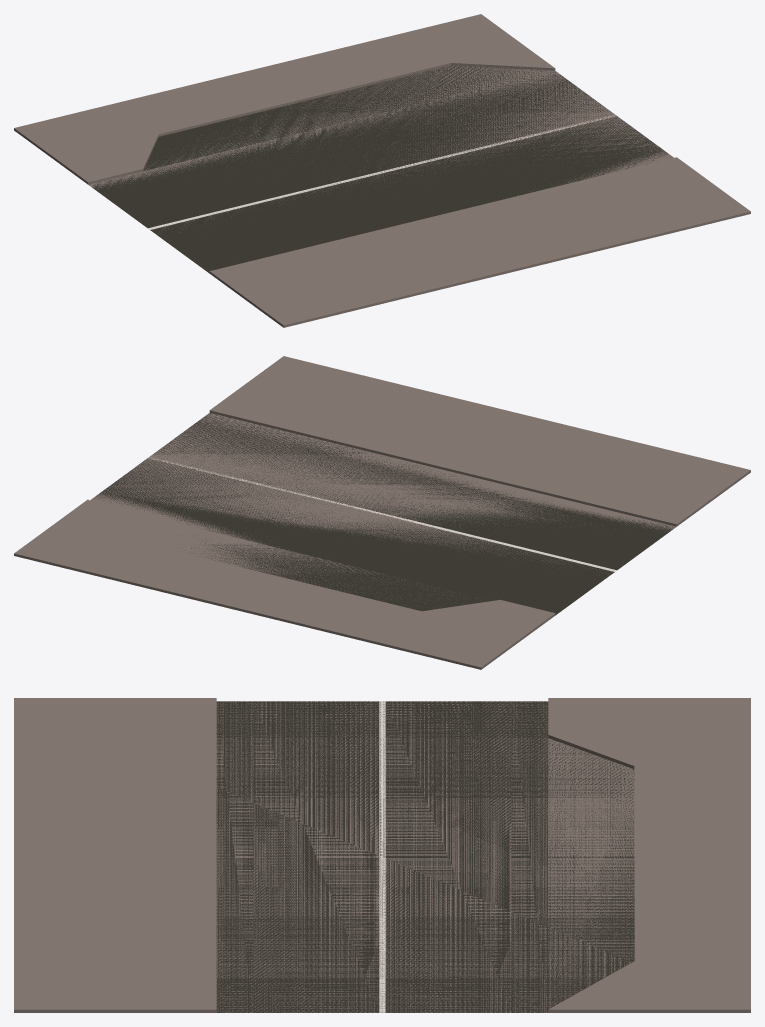
File: Env_1lane_Stop.fbx
3 views of the same model, one above another, from view 1: azimuth 30°, elevation 25°; view 2: azimuth 150°, elevation 25°; view 3: azimuth 270°, elevation 25° (orthographic). The views are drawn at different scales.
Parts seen in each view (by area): view 1: Env_1lane_Stop; view 2: Env_1lane_Stop; view 3: Env_1lane_Stop.
Part boxes in pixels (x1,y1,x2,y2): Env_1lane_Stop: (14, 14, 750, 327); Env_1lane_Stop: (14, 356, 750, 669); Env_1lane_Stop: (14, 698, 750, 1012).
Size of the model in its own units: 2000 by 10 by 2000.
